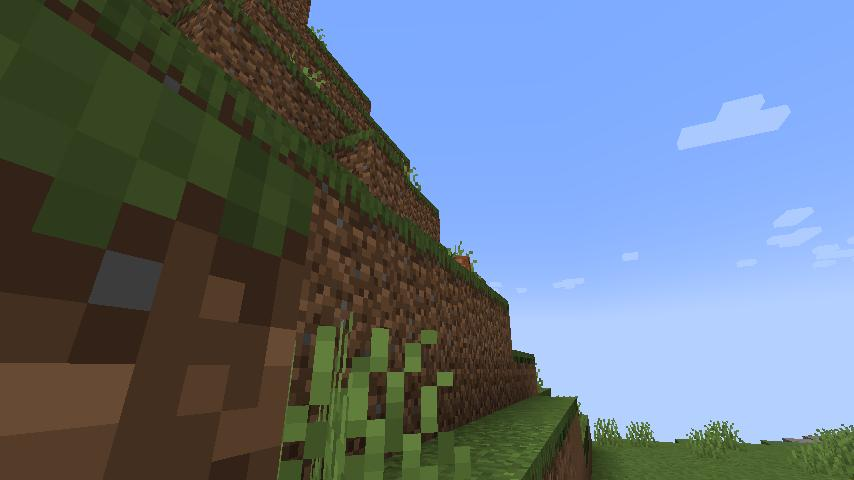frog: (450, 251, 475, 276)
